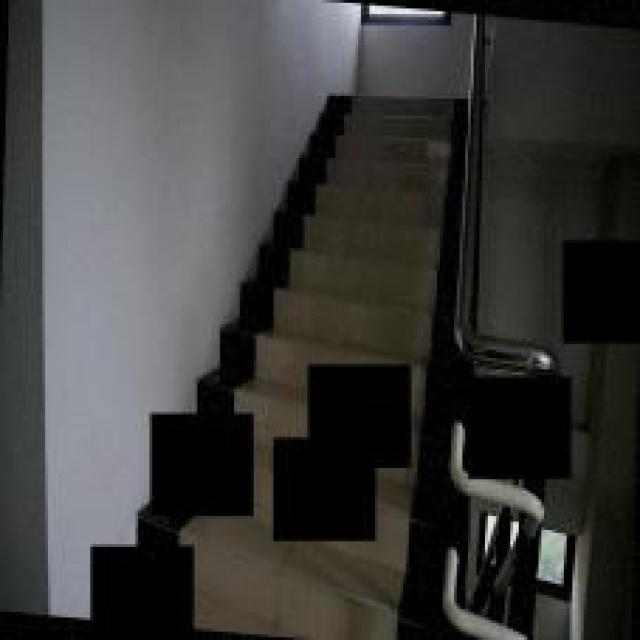upstair: (313, 84, 431, 330)
